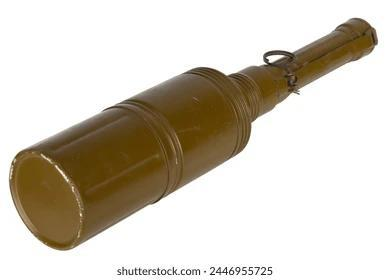RKG 3: (8, 17, 380, 251)
